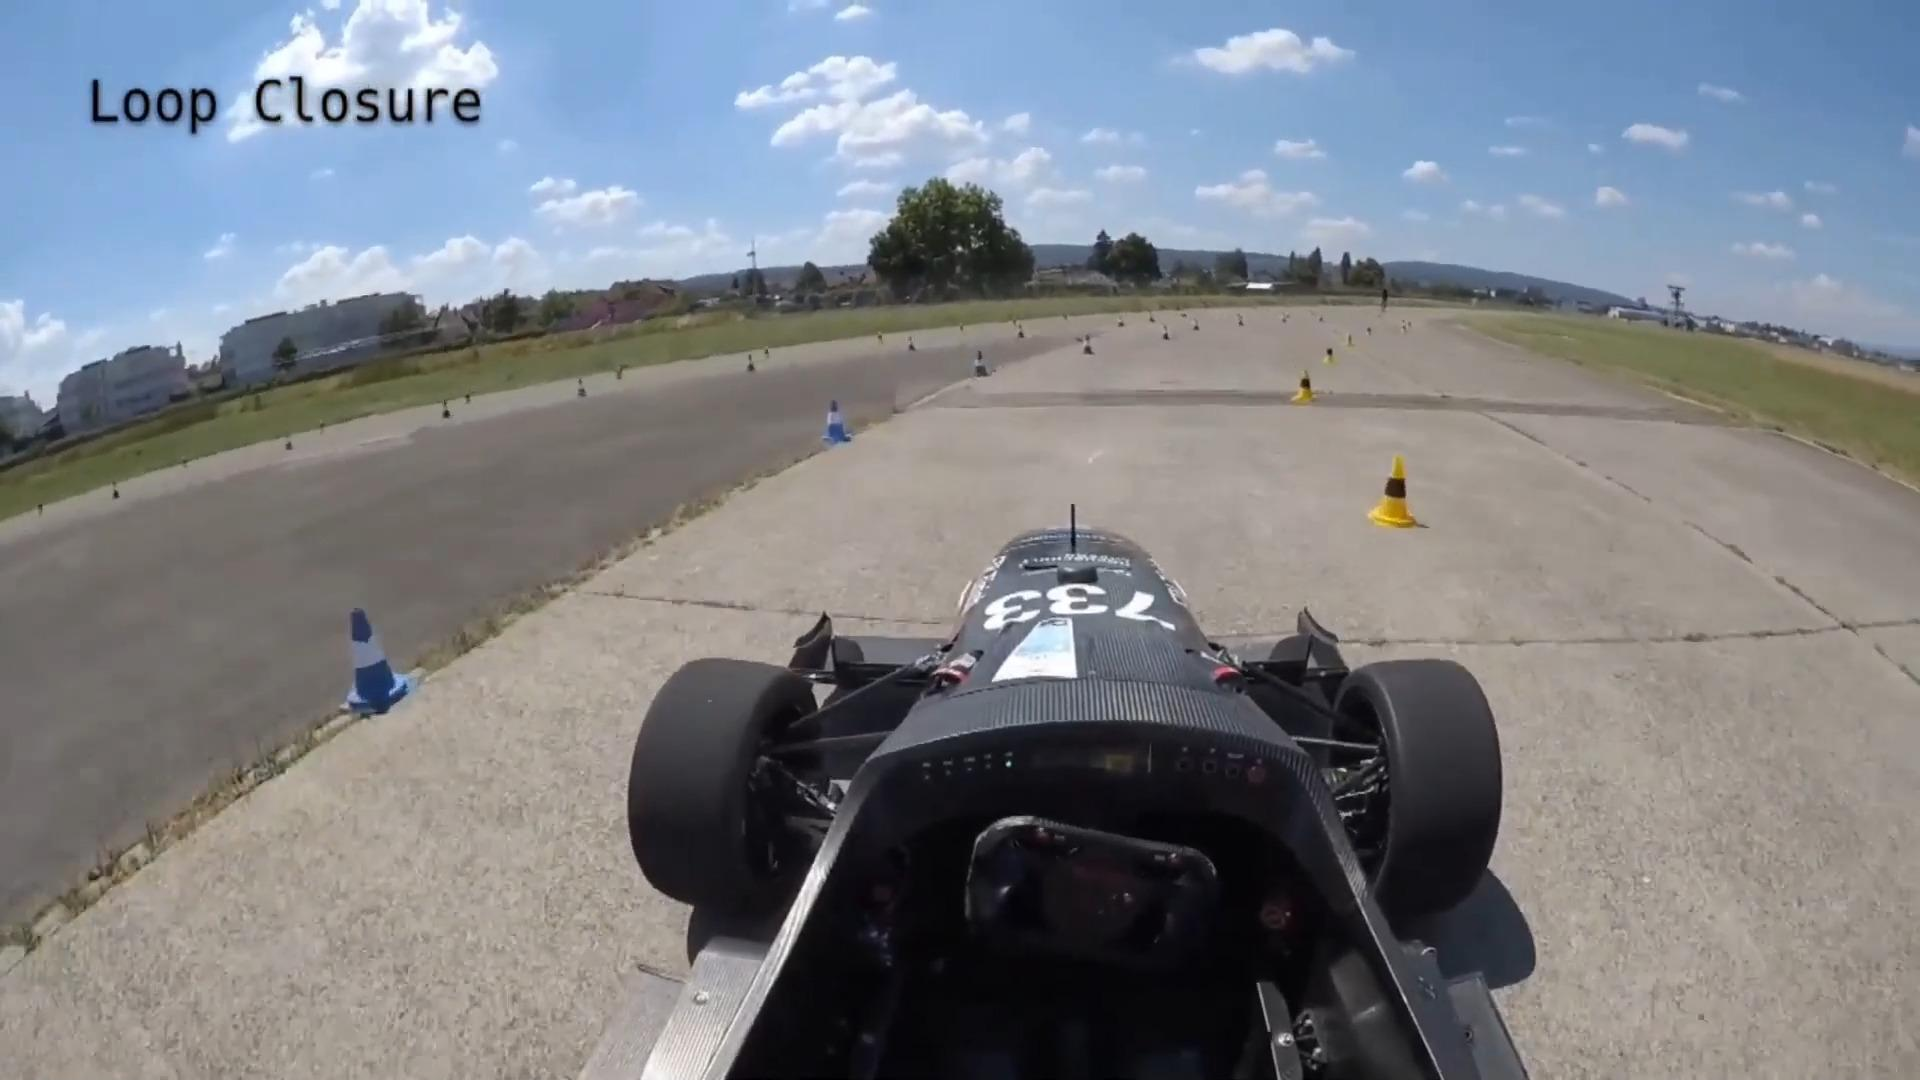blue_cone: (329, 601, 407, 720), (820, 396, 853, 451), (971, 343, 993, 384), (1081, 331, 1097, 354), (1014, 321, 1028, 341), (744, 356, 756, 373), (1161, 323, 1171, 341), (907, 336, 917, 352), (1191, 318, 1199, 334)
yellow_cone: (1368, 458, 1423, 535), (1291, 370, 1315, 407), (1322, 347, 1339, 366), (1342, 331, 1356, 350), (762, 346, 772, 361), (957, 320, 967, 335), (875, 331, 885, 344)
